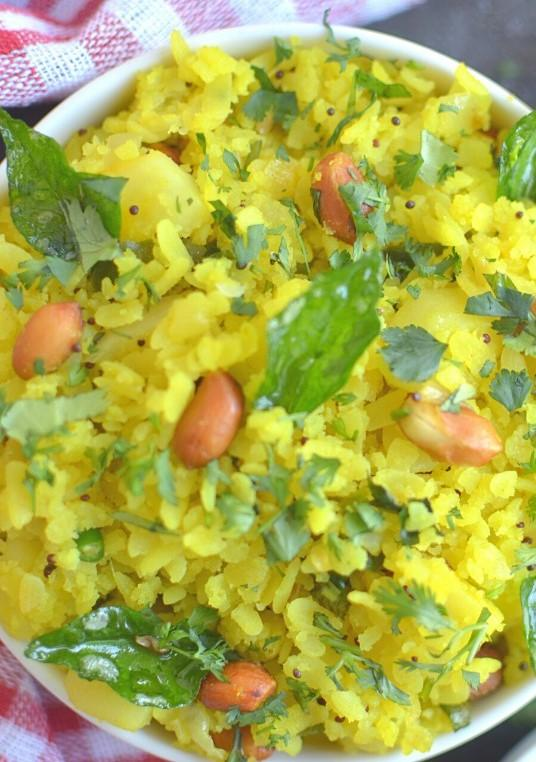Poha: (3, 30, 536, 762)
